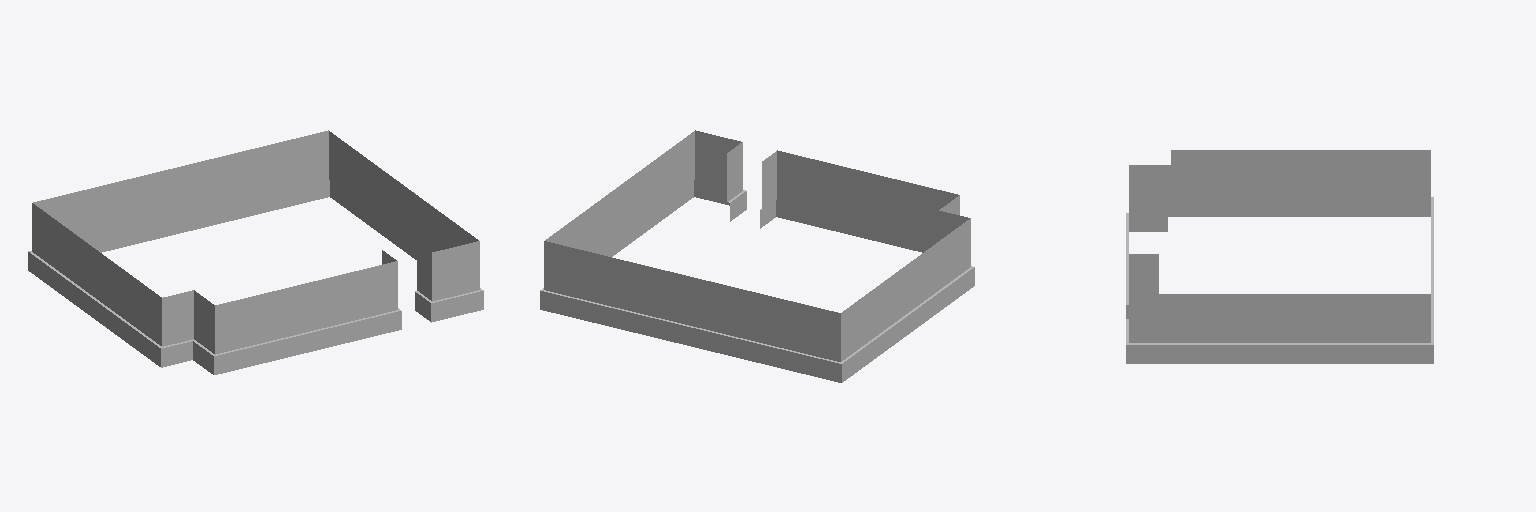
File: city_edificio_pauw2.obj
3 views of the same model, side by side, from view 1: azimuth 30°, elevation 25°; view 2: azimuth 150°, elevation 25°; view 3: azimuth 270°, elevation 25° (orthographic).
Visible parts, largest first — view 1: pasted__loftedSurface3; view 2: pasted__loftedSurface3; view 3: pasted__loftedSurface3.
Part boxes in pixels (x1,y1,x2,y2): pasted__loftedSurface3: (28,130,483,374); pasted__loftedSurface3: (540,130,974,382); pasted__loftedSurface3: (1126,150,1433,363).
Bounding box in the file's own units: 17.3 × 3.75 × 15.3.